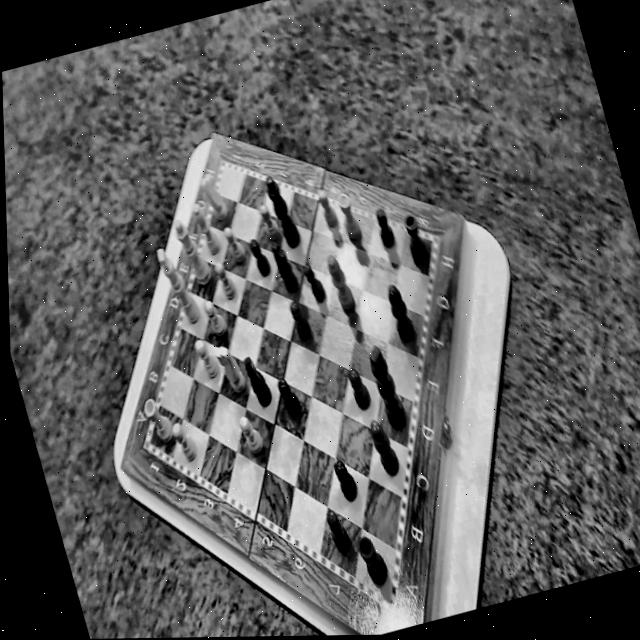chessboard: (150, 165, 429, 594)
